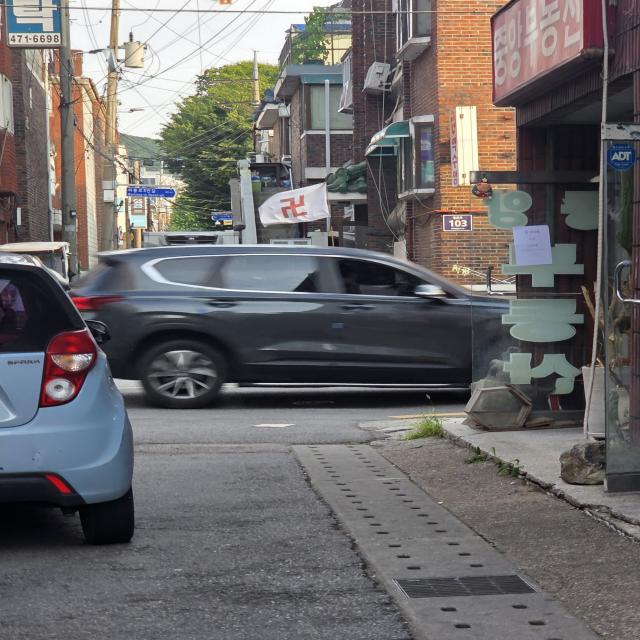car: (66, 265, 460, 392), (0, 252, 149, 546)
